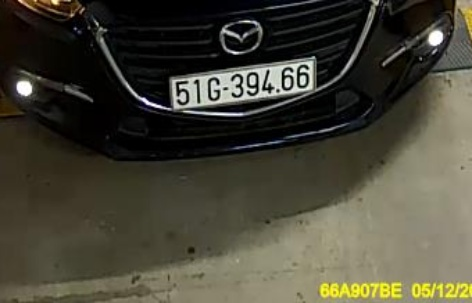plate: (162, 57, 325, 113)
